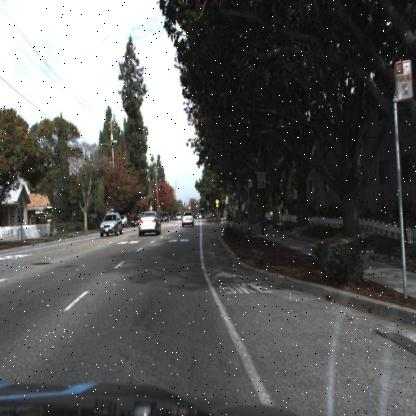car: (96, 210, 124, 238), (136, 210, 161, 238), (178, 212, 196, 231), (129, 213, 142, 231)
